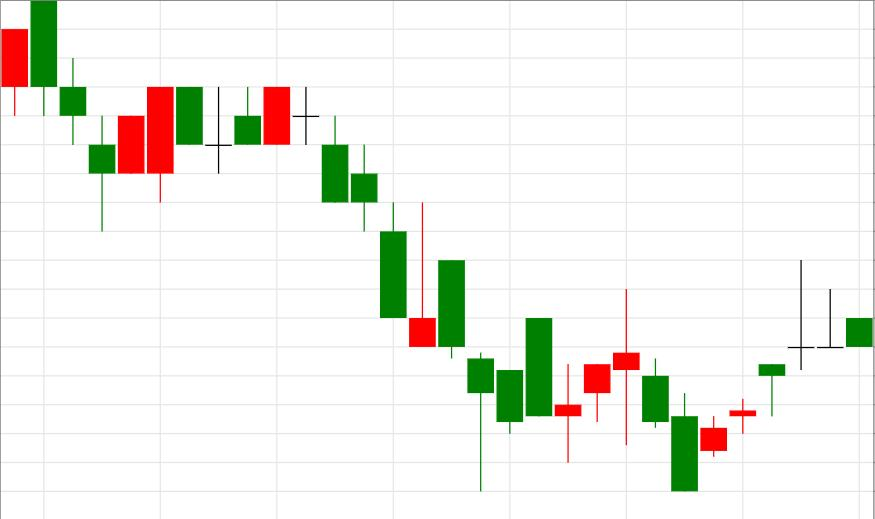hammer_rise: (322, 115, 494, 492)
